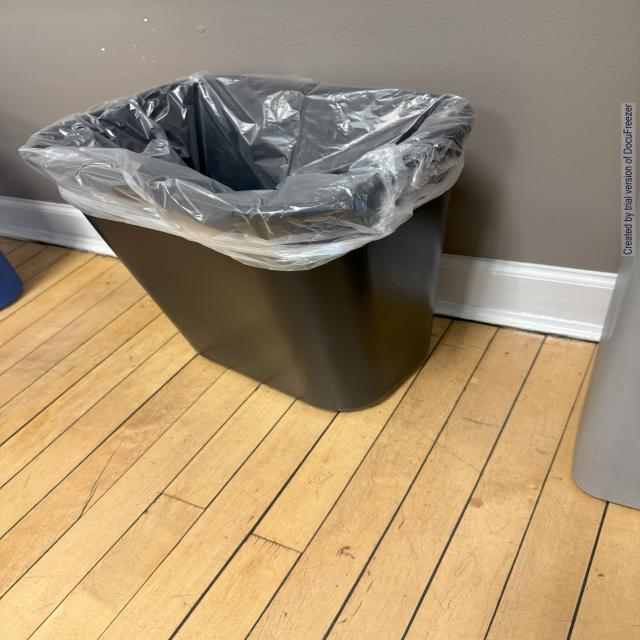Trash bin: (14, 41, 569, 418)
